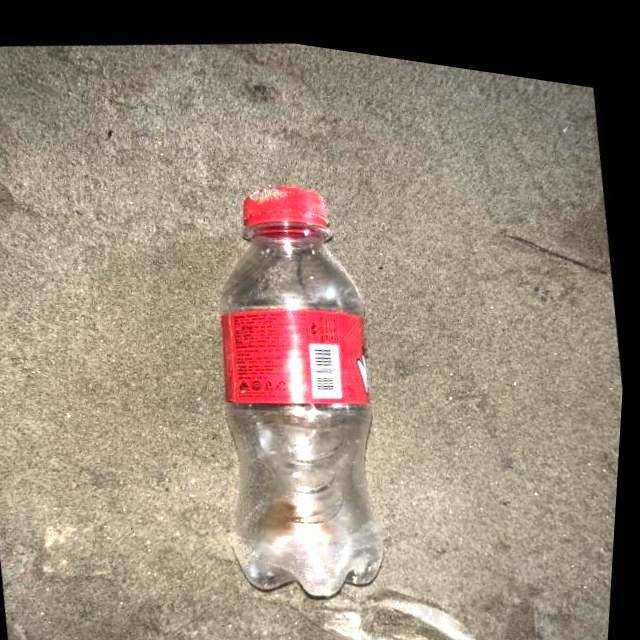bottle: (199, 161, 388, 587)
